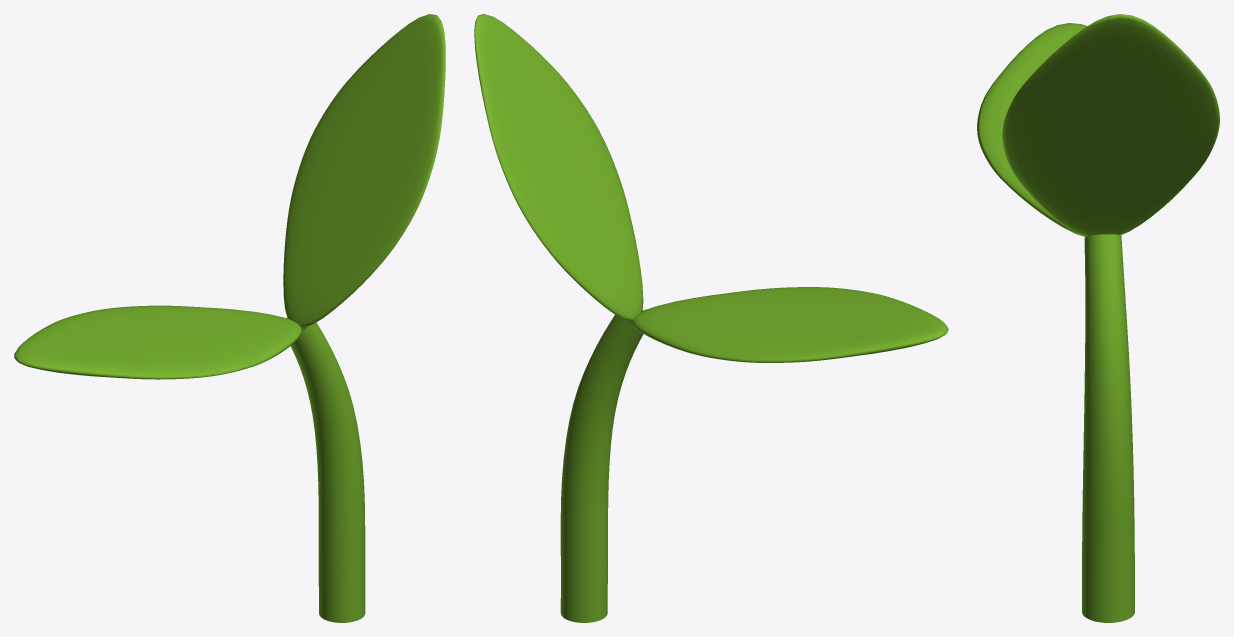
Rendered from Plant1.fbx.
The picture shows the model from 3 angles, left to right: view 1: azimuth 30°, elevation 25°; view 2: azimuth 150°, elevation 25°; view 3: azimuth 270°, elevation 25°; orthographic projection. The views are drawn at different scales.
Visible parts, largest first — view 1: Cylinder.030; view 2: Cylinder.030; view 3: Cylinder.030.
Part boxes in pixels (<box>): Cylinder.030: <box>14,14,445,622</box>; Cylinder.030: <box>474,14,948,622</box>; Cylinder.030: <box>977,14,1219,622</box>.
Bounding box in the file's own units: 84 × 104 × 34.98.
